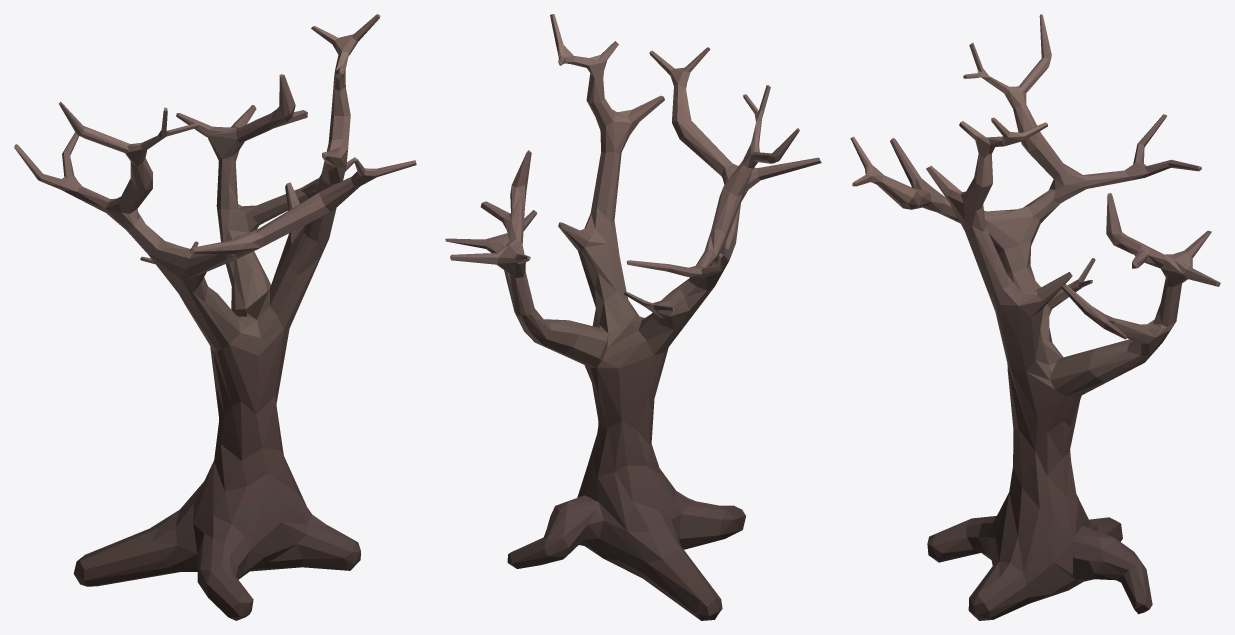
Rendered from tree-4.glb.
The picture shows the model from 3 angles, left to right: view 1: azimuth 30°, elevation 25°; view 2: azimuth 150°, elevation 25°; view 3: azimuth 270°, elevation 25°; orthographic projection. The views are drawn at different scales.
Visible parts, largest first — view 1: tree4; view 2: tree4; view 3: tree4.
Part boxes in pixels (left/top/right/bottom): tree4: left=14, top=14, right=416, bottom=620; tree4: left=445, top=14, right=821, bottom=620; tree4: left=850, top=14, right=1220, bottom=620.
Size of the model in its own units: 3.69 by 5.78 by 3.62.
1 material, 1 textured.
